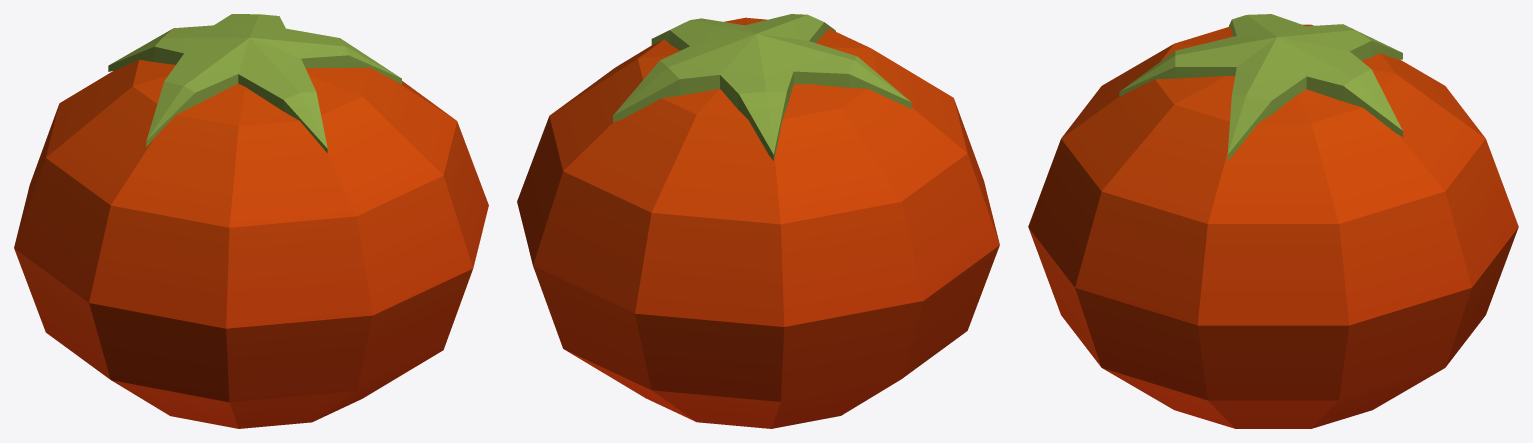
Rendered from tomato_1.glb.
3 views of the same model, side by side, from view 1: azimuth 30°, elevation 25°; view 2: azimuth 150°, elevation 25°; view 3: azimuth 270°, elevation 25° (orthographic).
Visible parts, largest first — view 1: tomato_1; view 2: tomato_1; view 3: tomato_1.
Boxes of the visible parts, x1,y1,x2,y2 form: tomato_1: [14, 14, 488, 428]; tomato_1: [517, 14, 999, 428]; tomato_1: [1028, 14, 1518, 428].
Bounding box in the file's own units: 0.117 × 0.0947 × 0.123.
1 material, 1 textured.
